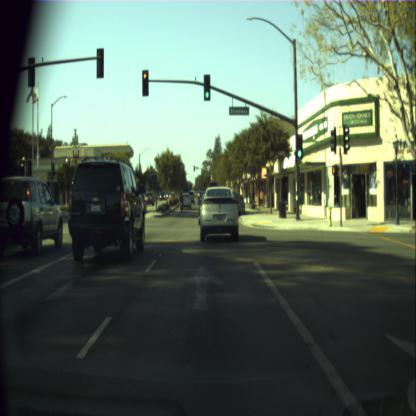Green: (204, 74, 210, 100), (297, 134, 302, 158)
RedLeft: (142, 69, 148, 95), (20, 160, 24, 174)
